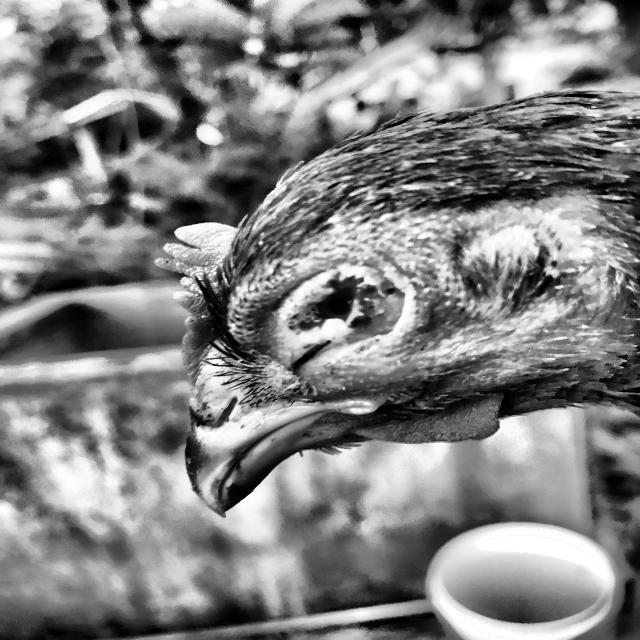Coryza: (123, 72, 628, 630)
